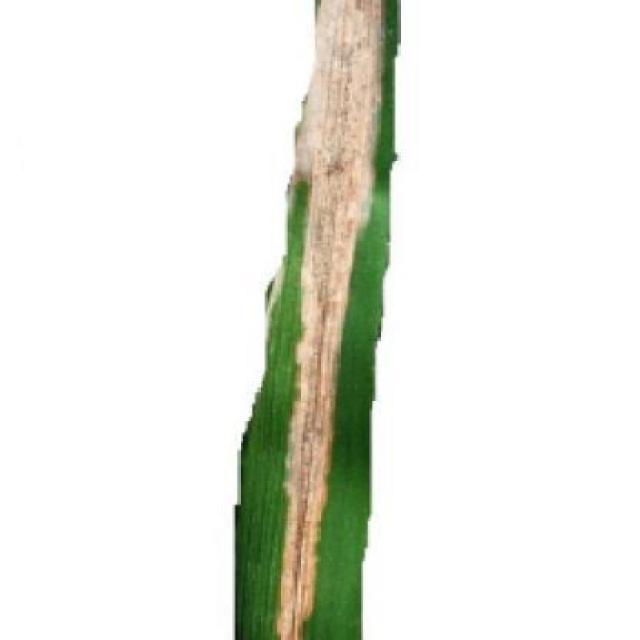Brown_Spot: (223, 0, 402, 640)
